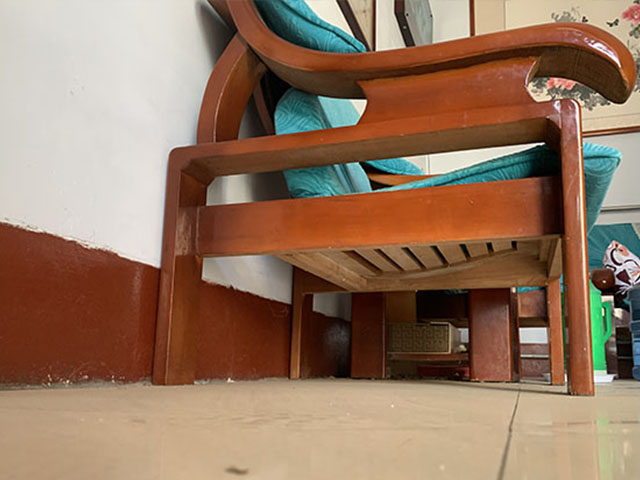sofa: (148, 1, 635, 396)
